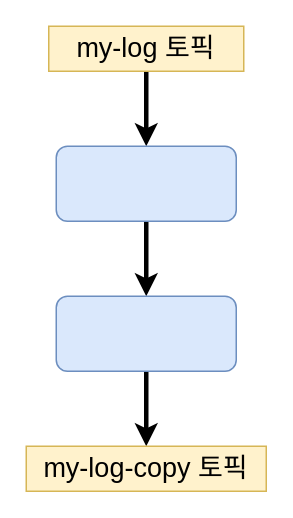
Image size: 293x518. Some labels were removed from this diagram. The shapes that lost their labels are listed below. From the top down, each one's centre as x and y in pixels, then its label:
the point at 145,183: [소스 프로세서] stream()
the point at 145,333: [싱크 프로세서] to()
